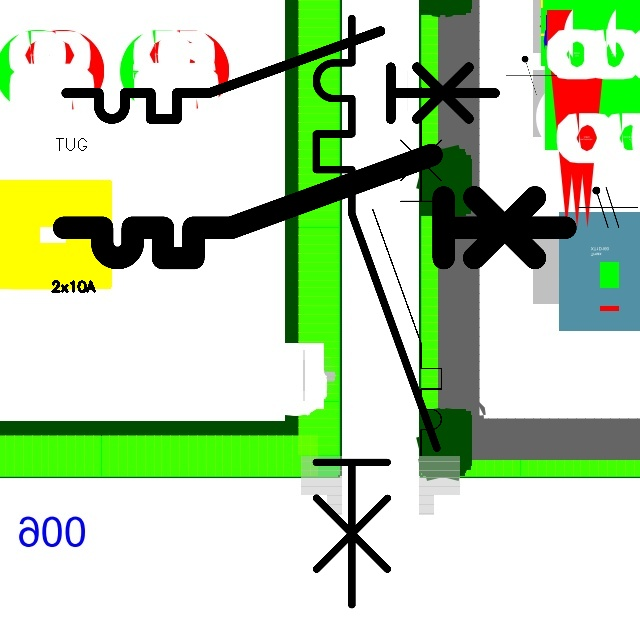interruptor_termomagnetico: (301, 3, 452, 620), (51, 142, 578, 271), (55, 20, 506, 130), (364, 110, 450, 463)
